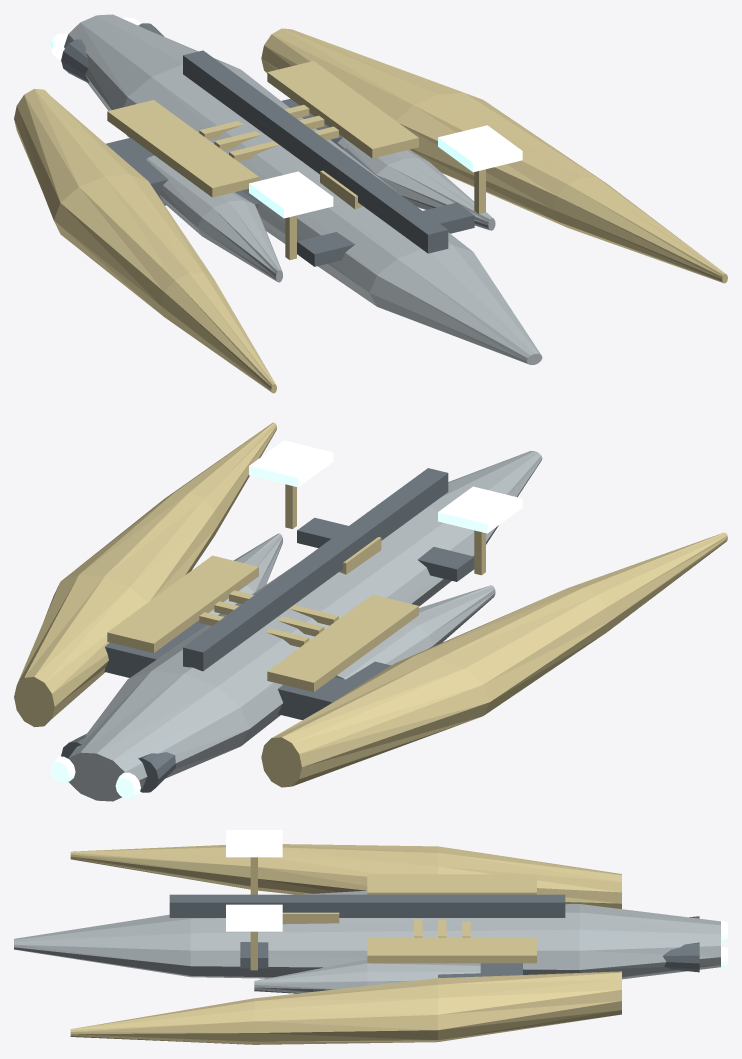
The picture shows the model from 3 angles, top to bottom: view 1: azimuth 30°, elevation 25°; view 2: azimuth 150°, elevation 25°; view 3: azimuth 270°, elevation 25°; orthographic projection. The views are drawn at different scales.
Size of the model in its own units: 5.84 by 1.5 by 9.8.
